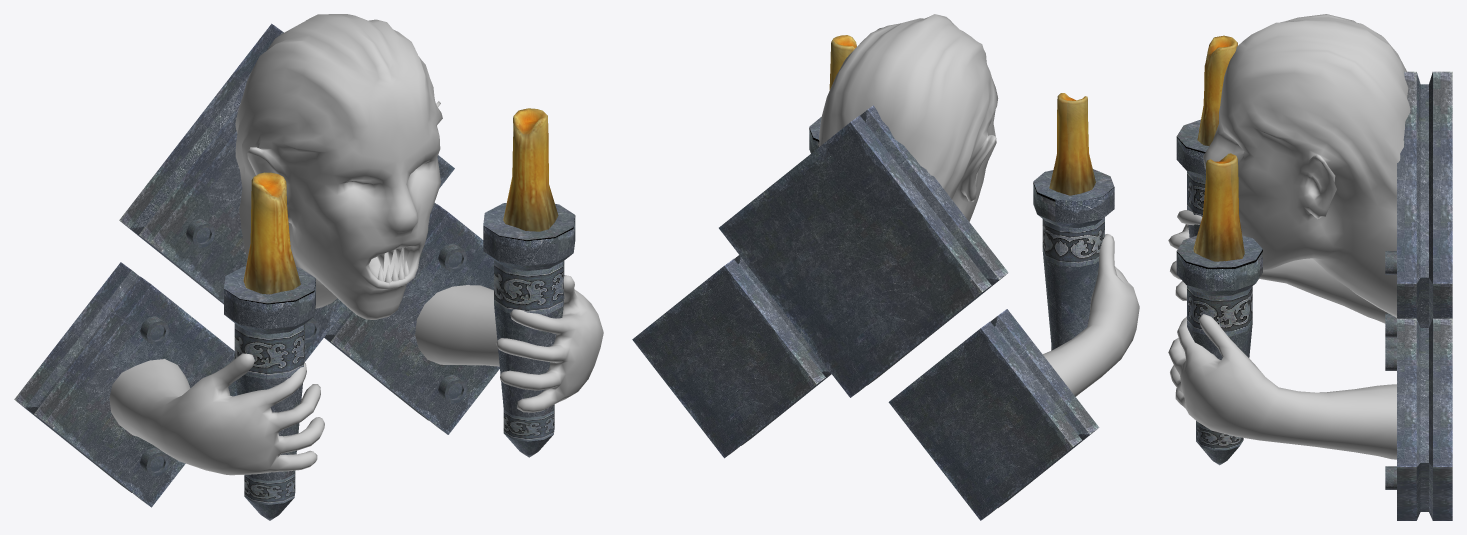
The model's file is candle holder_1.FBX.
3 renders of one model, left to right at view 1: azimuth 30°, elevation 25°; view 2: azimuth 150°, elevation 25°; view 3: azimuth 270°, elevation 25°, orthographic. The views are drawn at different scales.
Visible parts, largest first — view 1: SF; view 2: SF; view 3: SF.
Part boxes in pixels (left/top/right/bottom): SF: left=14, top=14, right=603, bottom=520; SF: left=632, top=14, right=1139, bottom=520; SF: left=1168, top=14, right=1452, bottom=520.
Bounding box in the file's own units: 187 × 169 × 99.85.
